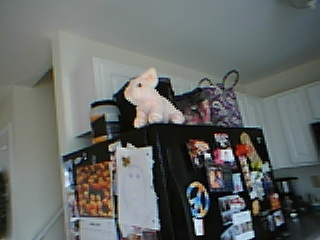piggy: (124, 67, 185, 130)
